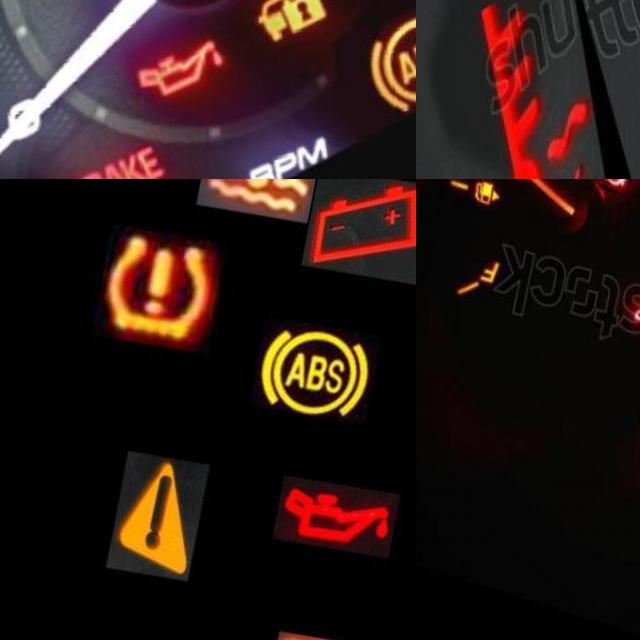Central Warning lamp: (98, 448, 209, 587)
Engine cooling system: (191, 179, 332, 231)
